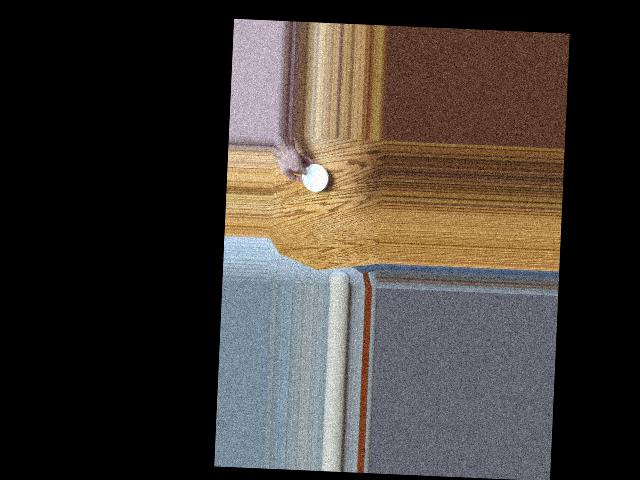cotage: (297, 158, 329, 195)
